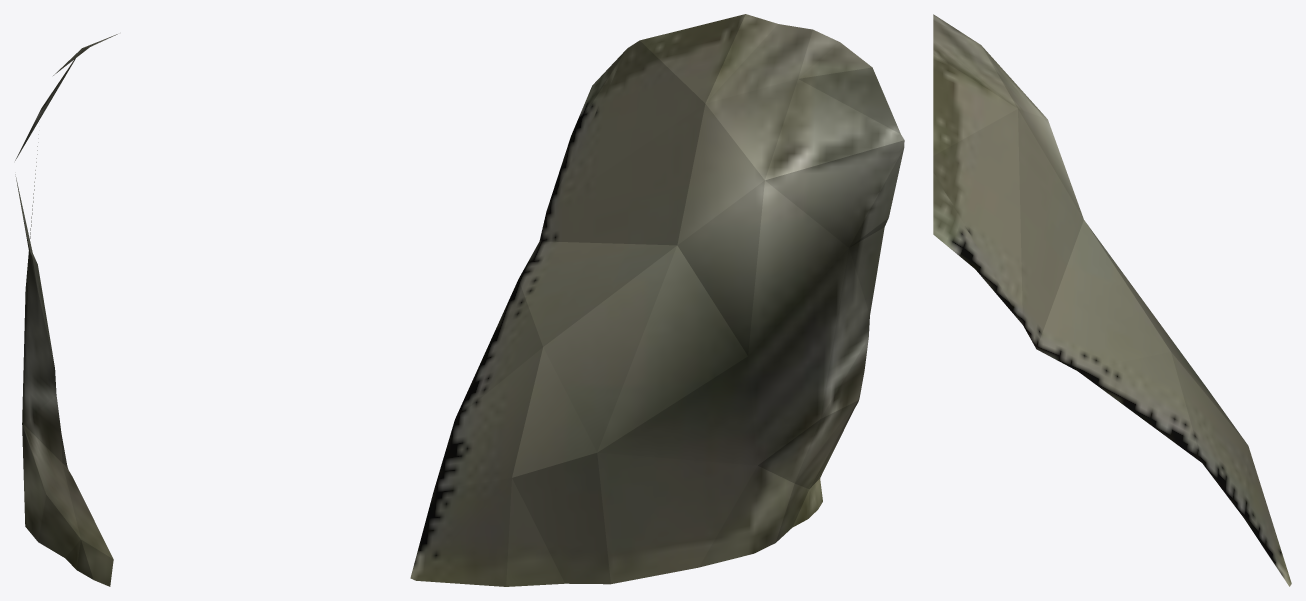
3 renders of one model, left to right at view 1: azimuth 30°, elevation 25°; view 2: azimuth 150°, elevation 25°; view 3: azimuth 270°, elevation 25°, orthographic. The views are drawn at different scales.
Bounding box in the file's own units: 2.45 × 3.51 × 2.48.
Materials: 1 (1 with a texture image).
